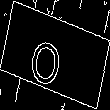O_N: (36, 24, 74, 86)
